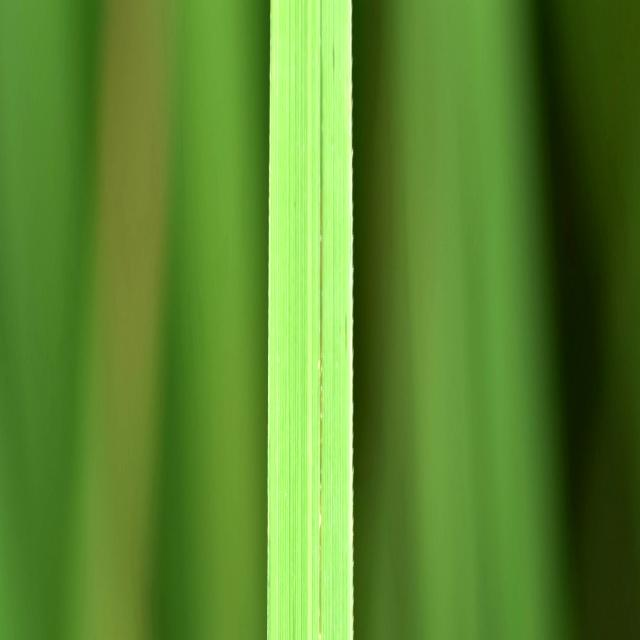BLS: (319, 2, 323, 640), (293, 597, 294, 640)
